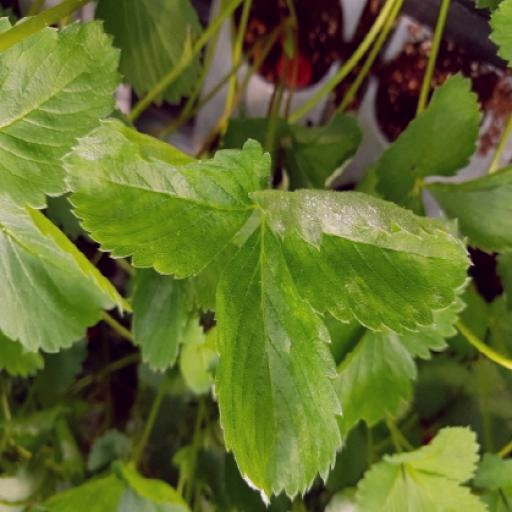Powdery Mildew Leaf: (213, 3, 347, 295), (59, 232, 272, 401), (250, 175, 474, 324)
